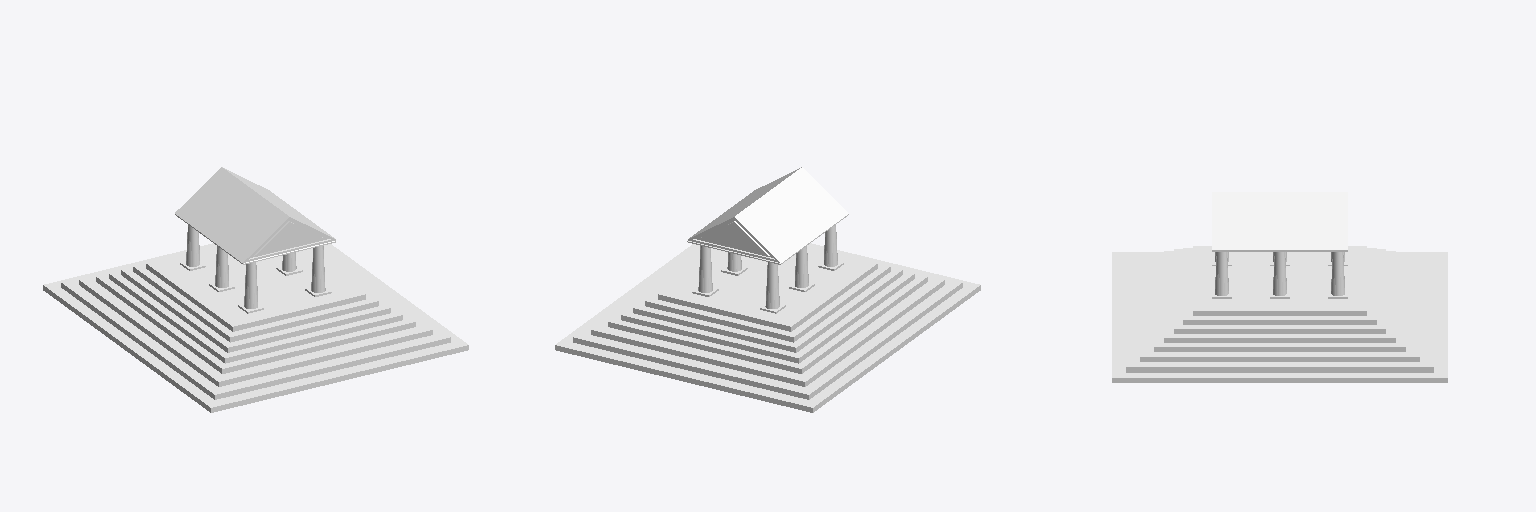
The model's file is temple.obj.
3 renders of one model, left to right at view 1: azimuth 30°, elevation 25°; view 2: azimuth 150°, elevation 25°; view 3: azimuth 270°, elevation 25°, orthographic.
Parts seen in each view (by area): view 1: building_Cube.001; view 2: building_Cube.001; view 3: building_Cube.001.
Part boxes in pixels (left/top/right/bottom): building_Cube.001: left=43, top=167, right=468, bottom=412; building_Cube.001: left=555, top=167, right=980, bottom=412; building_Cube.001: left=1112, top=192, right=1447, bottom=382.
Bounding box in the file's own units: 111 × 52.89 × 126.